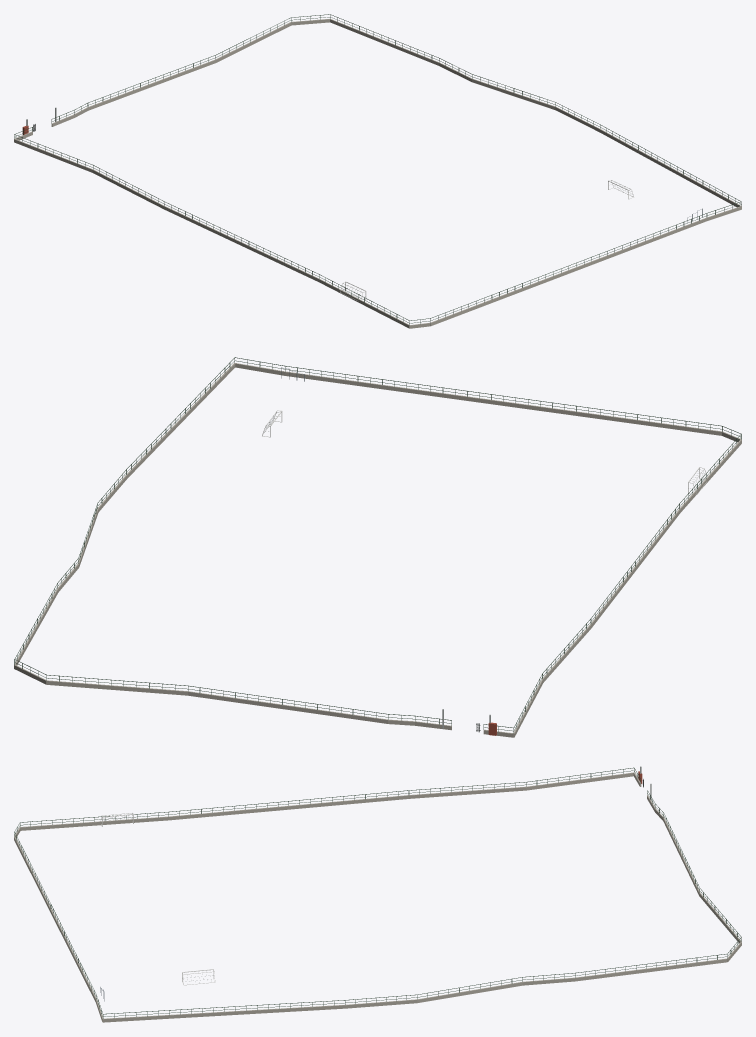
3 renders of one model, top to bottom at view 1: azimuth 30°, elevation 25°; view 2: azimuth 150°, elevation 25°; view 3: azimuth 270°, elevation 25°, orthographic. The views are drawn at different scales.
Visible parts, largest first — view 1: site-wall-concrete, site-fence; view 2: site-wall-concrete, site-fence; view 3: site-wall-concrete, site-fence.
Boxes of the visible parts, left/top/right/bottom form: site-wall-concrete: left=14, top=19, right=741, bottom=328; site-fence: left=14, top=14, right=741, bottom=325; site-wall-concrete: left=14, top=363, right=741, bottom=737; site-fence: left=14, top=357, right=741, bottom=733; site-wall-concrete: left=14, top=772, right=741, bottom=1022; site-fence: left=14, top=767, right=741, bottom=1018.
Size of the model in its own units: 134 by 4.45 by 167.
